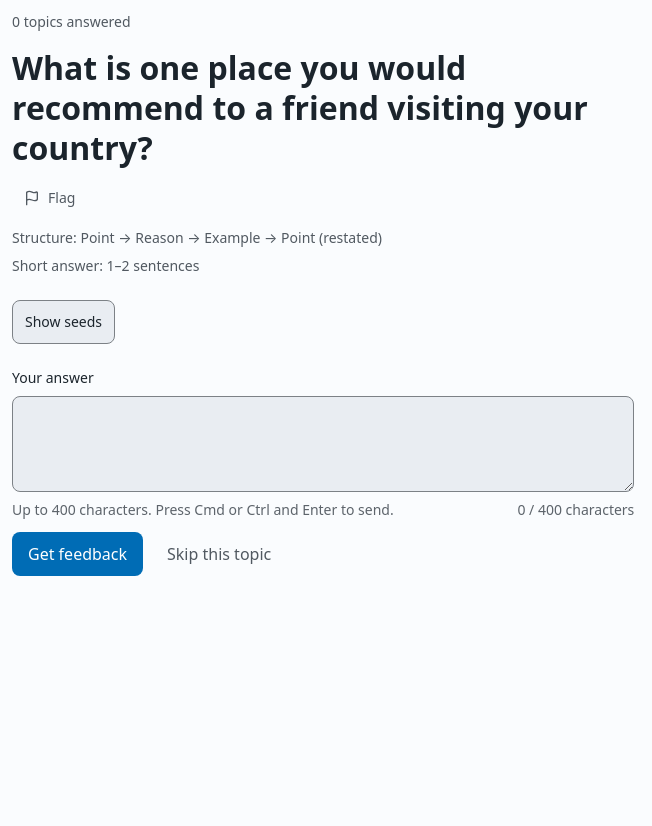
Test: the drill page's client leaf › uses the persisted level when choosing seed rows
Click the button "Show seeds" at [64, 322], box [12,300,115,344]
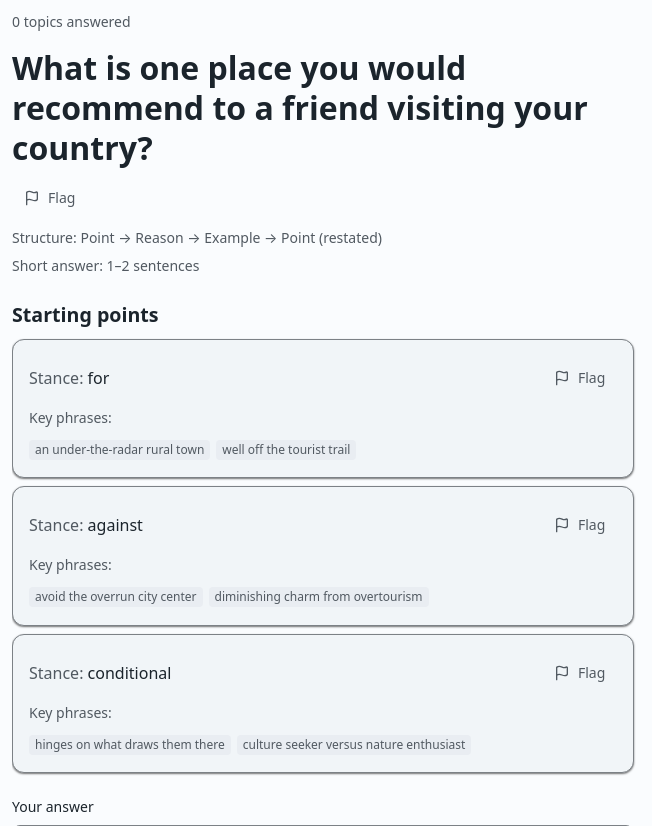
Result: the text "an under-the-radar rural town" is shown at [29,440,210,460]
